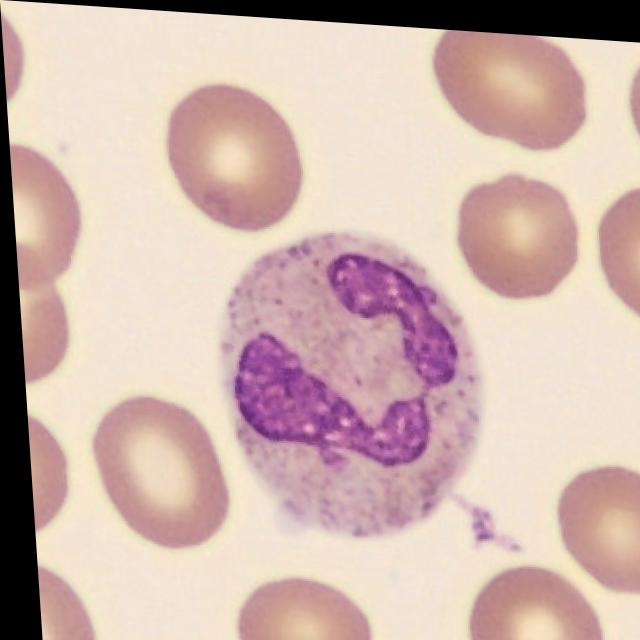Neutrofilo segmentado: (214, 226, 479, 533)
